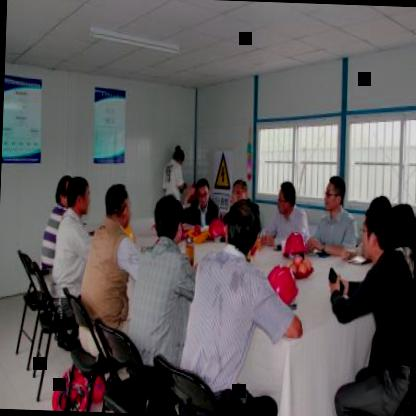head: (362, 191, 402, 266), (224, 194, 262, 256), (382, 198, 416, 262), (148, 189, 184, 245), (103, 180, 134, 235), (62, 171, 91, 218), (323, 173, 348, 216), (275, 178, 298, 218), (192, 174, 212, 210), (230, 176, 251, 206), (170, 142, 188, 171)
